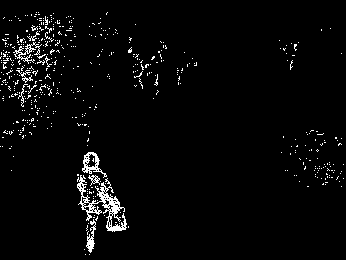person: (75, 151, 130, 256)
